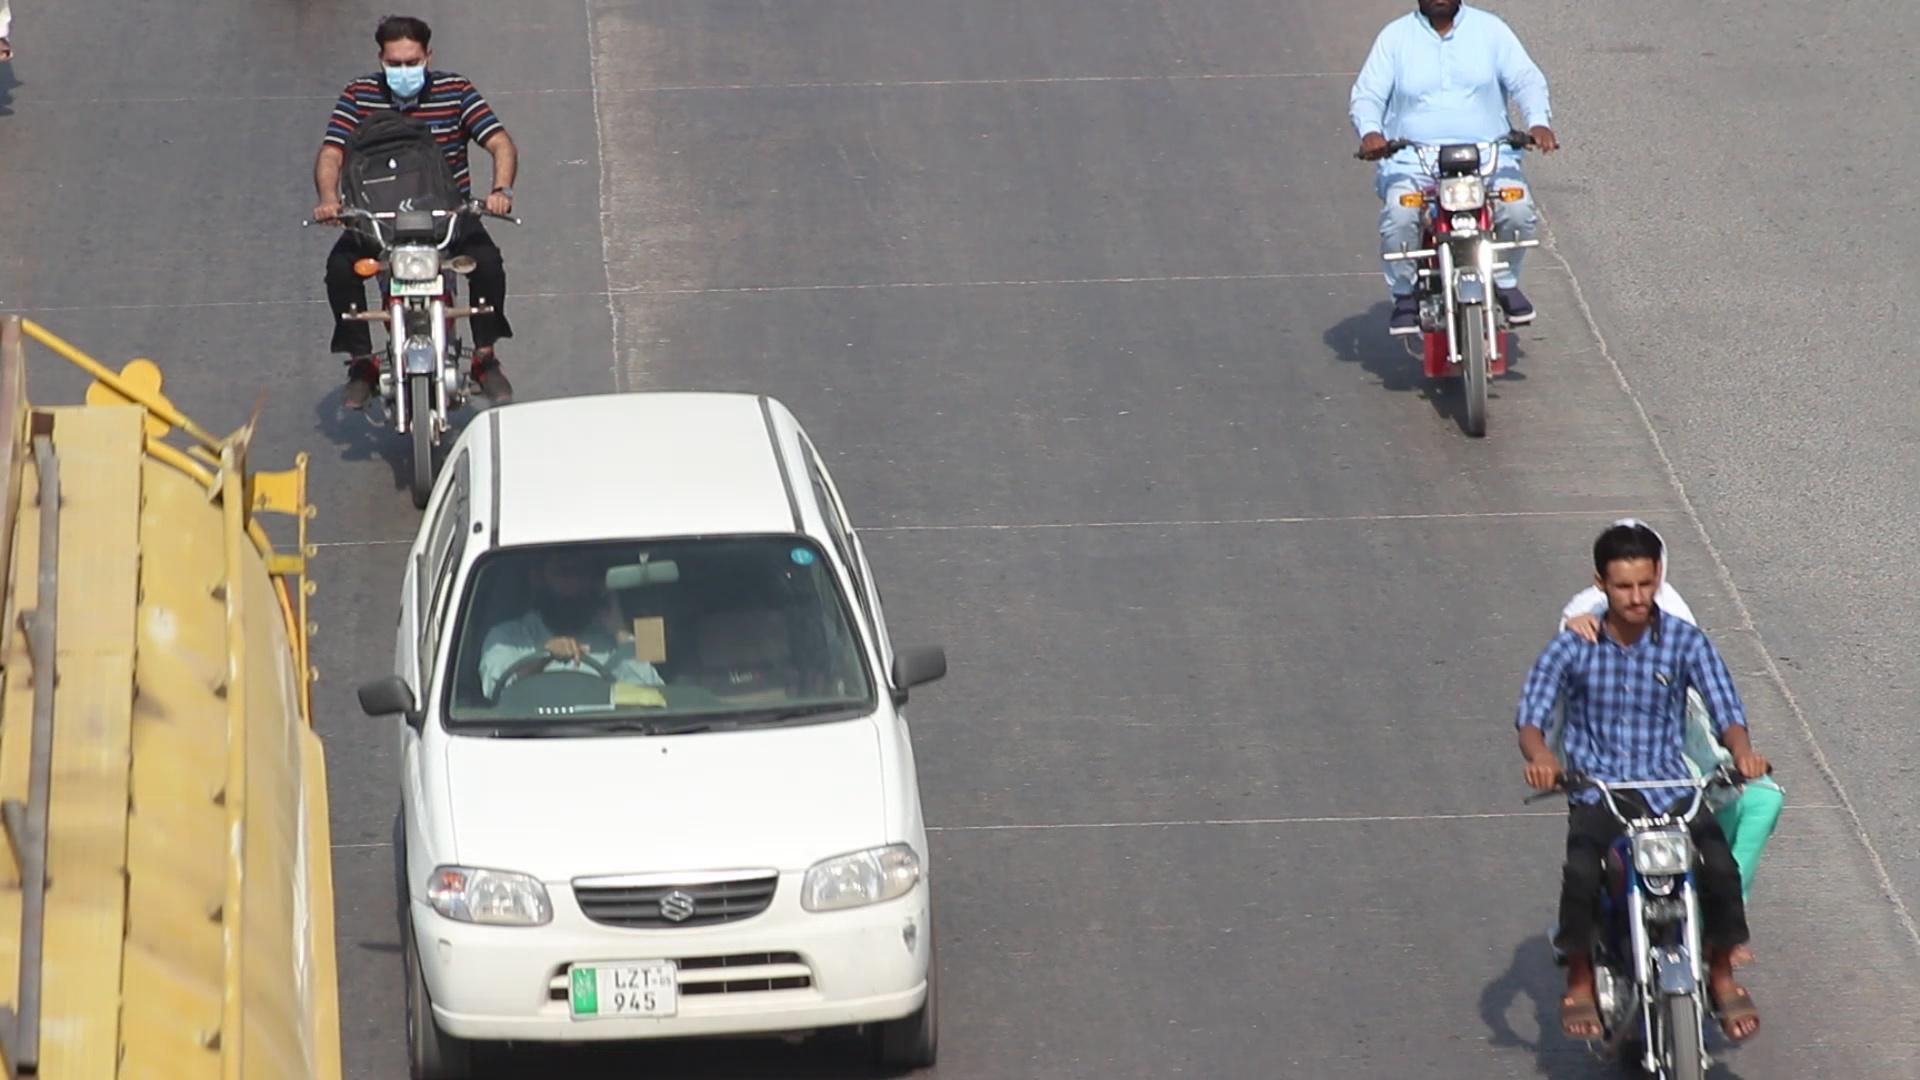windshield: (438, 520, 887, 740)
